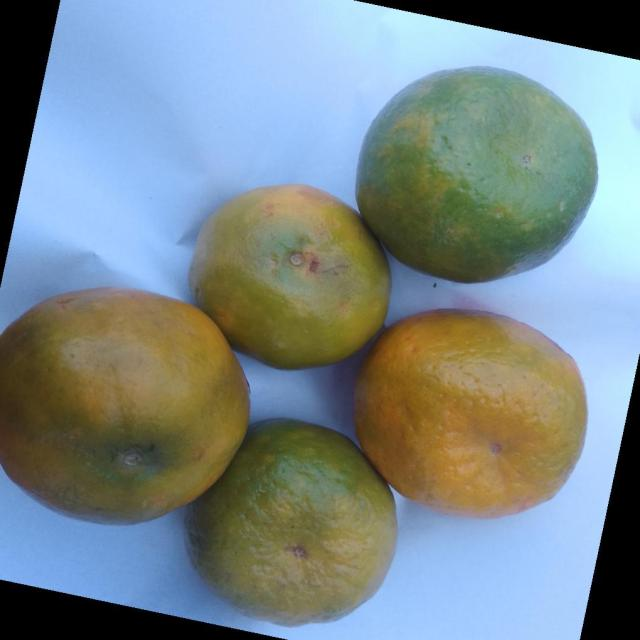fresh orange: (0, 285, 250, 526), (354, 64, 598, 284), (353, 306, 588, 519), (182, 417, 398, 626), (187, 182, 391, 370)
